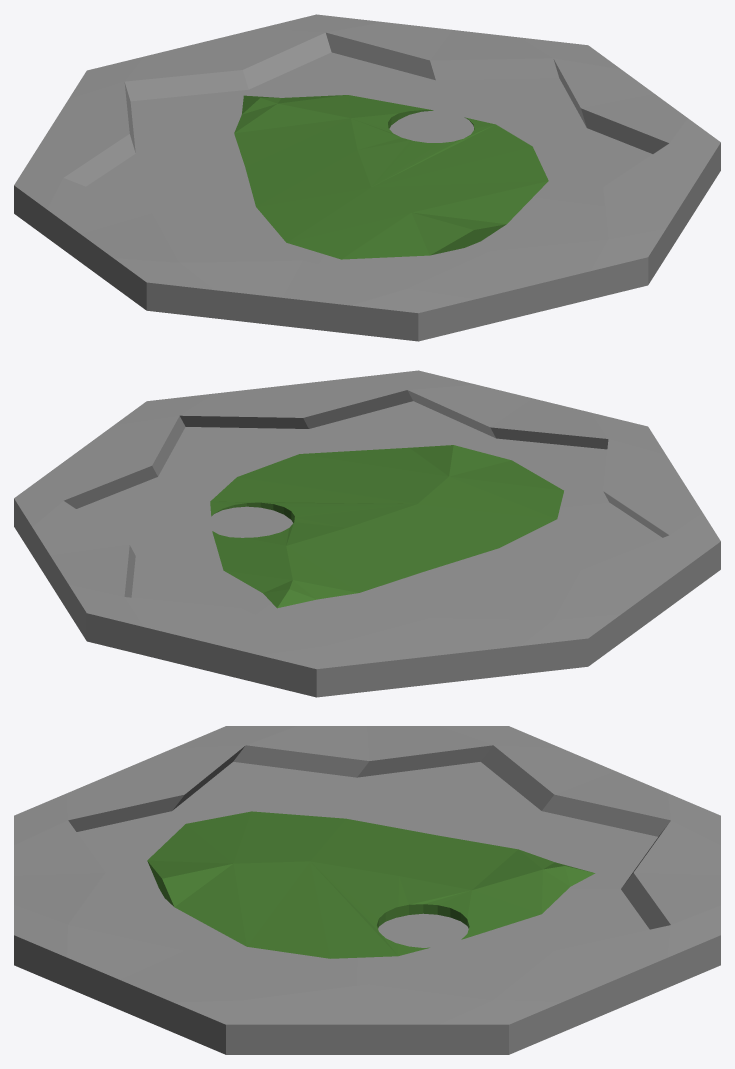
The model's file is Button.fbx.
The picture shows the model from 3 angles, top to bottom: view 1: azimuth 30°, elevation 25°; view 2: azimuth 150°, elevation 25°; view 3: azimuth 270°, elevation 25°; orthographic projection. The views are drawn at different scales.
Visible parts, largest first — view 1: pCube38, pCube37; view 2: pCube38, pCube37; view 3: pCube38, pCube37.
Part boxes in pixels (bbox=[...]): pCube38: bbox=[14, 14, 720, 341]; pCube37: bbox=[234, 95, 548, 259]; pCube38: bbox=[14, 370, 720, 697]; pCube37: bbox=[210, 445, 563, 608]; pCube38: bbox=[14, 726, 720, 1054]; pCube37: bbox=[147, 811, 595, 958].
Size of the model in its own units: 0.4563 by 0.0234 by 0.4563.
